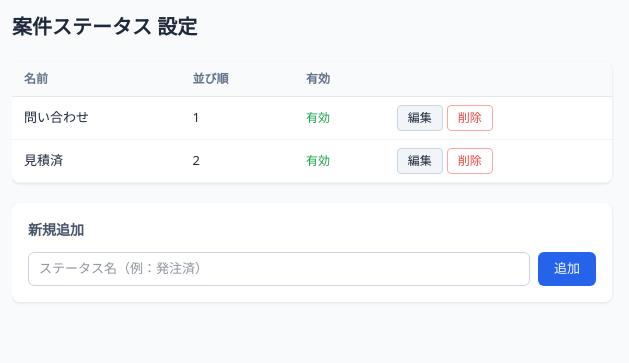
Test: ProjectStatusSettings (R-0085) › 新規ステータスを追加できる
The image size is (629, 363).
Expected: the text "問い合わせ" is shown, [12,96,180,140]
Type "キャンセル" into the field with placeholder "ステータス名（例：発注済）".
click(279, 269); type("キャンセル")  # box [28,252,530,286]
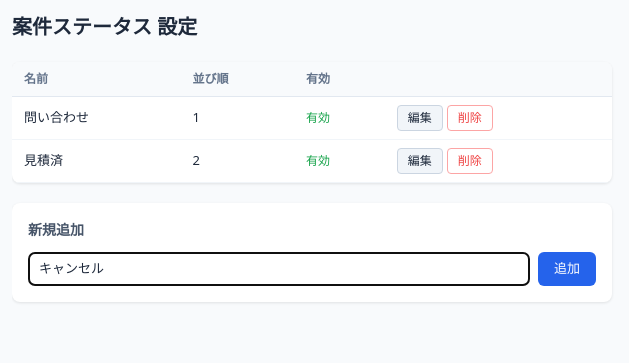
Click the button "追加".
click(567, 269)  # box [538,252,596,286]
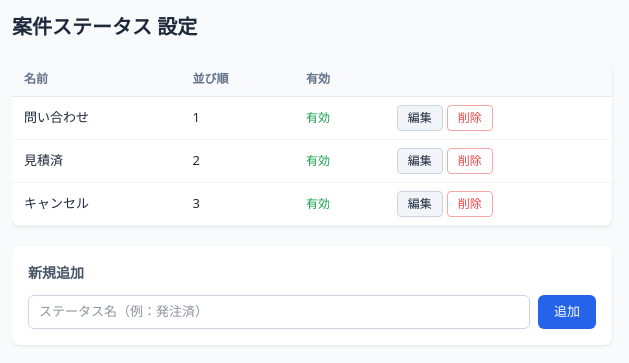
Now the text "キャンセル" is shown, box [12,182,180,226]
